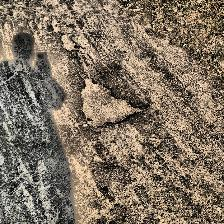pothole: (78, 76, 144, 128), (60, 33, 78, 51)
